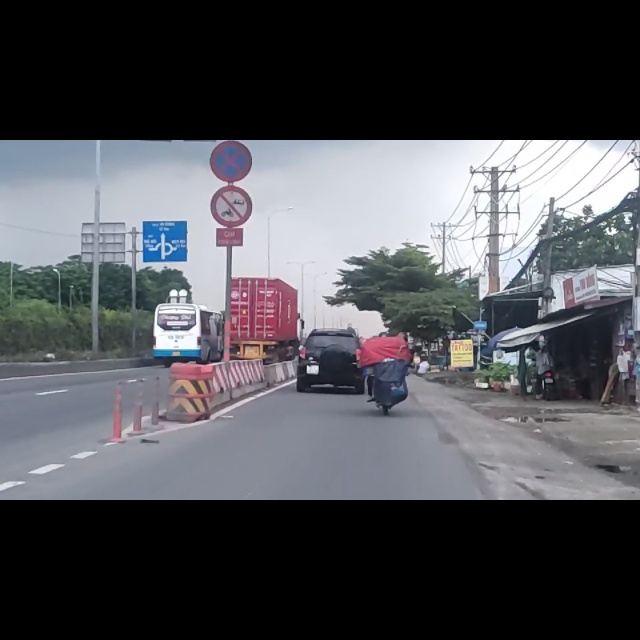bien_chi_dan: (209, 79, 254, 155), (209, 3, 254, 75)
